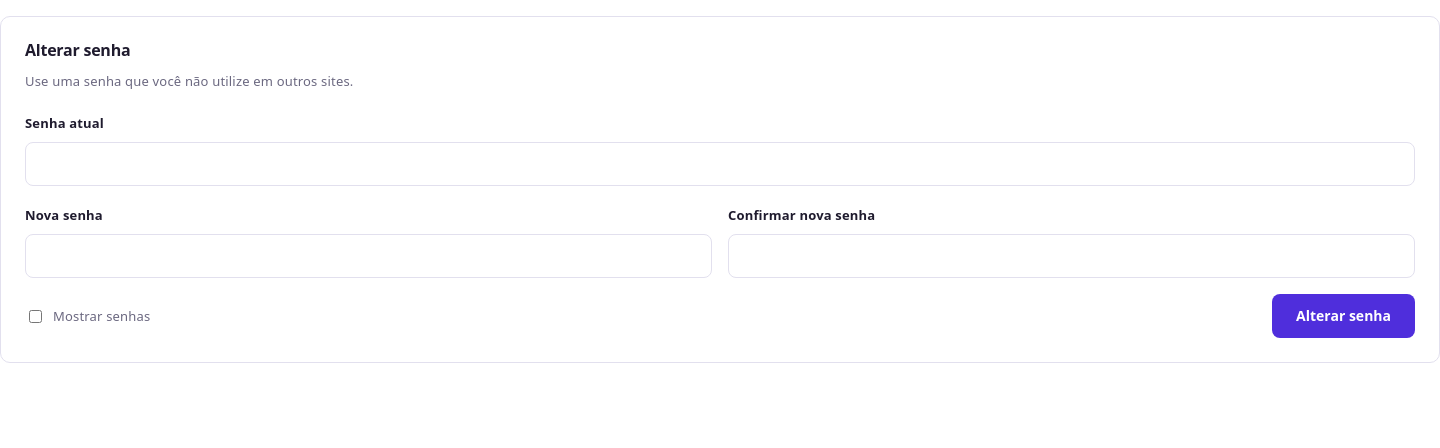
Test case: FormularioSenha › mostra o erro devolvido pela API
The width and height of the screenshot is (1440, 448).
Type "errada" into the password field labelled "Senha atual".
click(720, 164); type("errada")  # box [25, 142, 1415, 186]
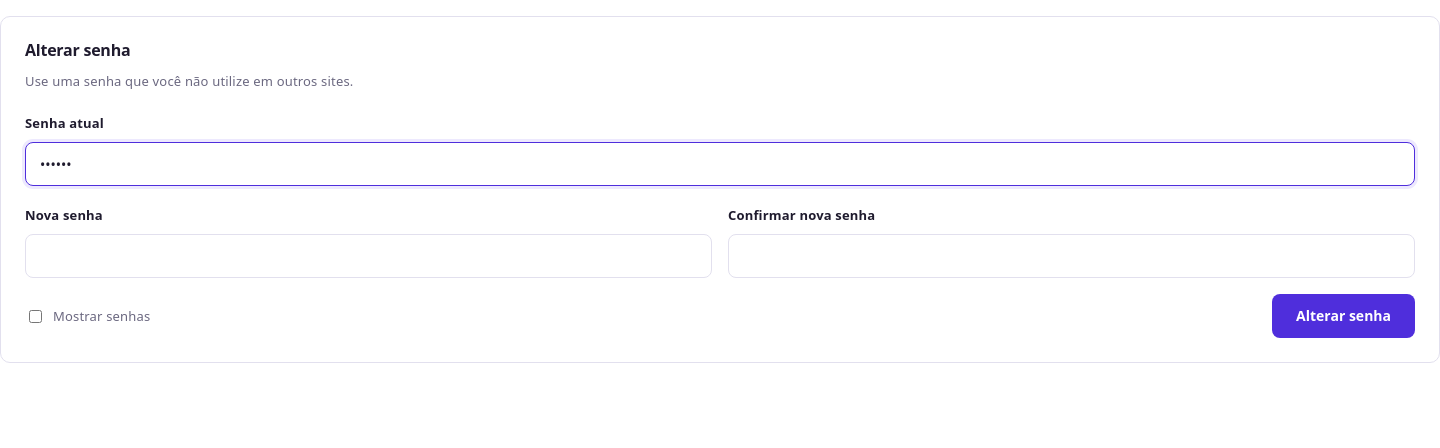
Type "nova1234" into the password field labelled "Nova senha".
click(368, 256); type("nova1234")  # box [25, 234, 712, 278]
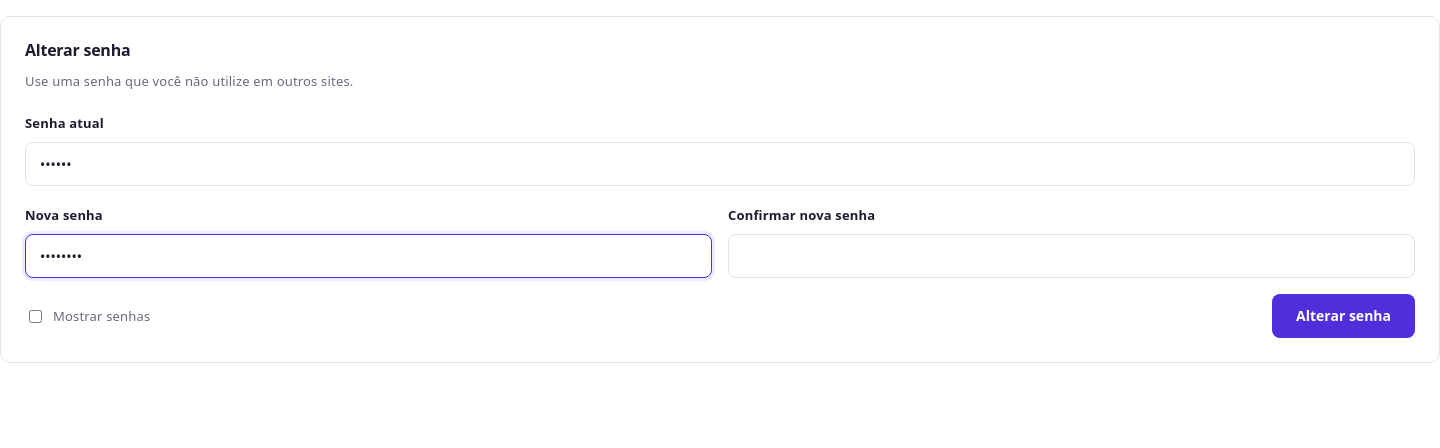
Type "nova1234" into the password field labelled "Confirmar nova senha".
click(1072, 256); type("nova1234")  # box [728, 234, 1415, 278]
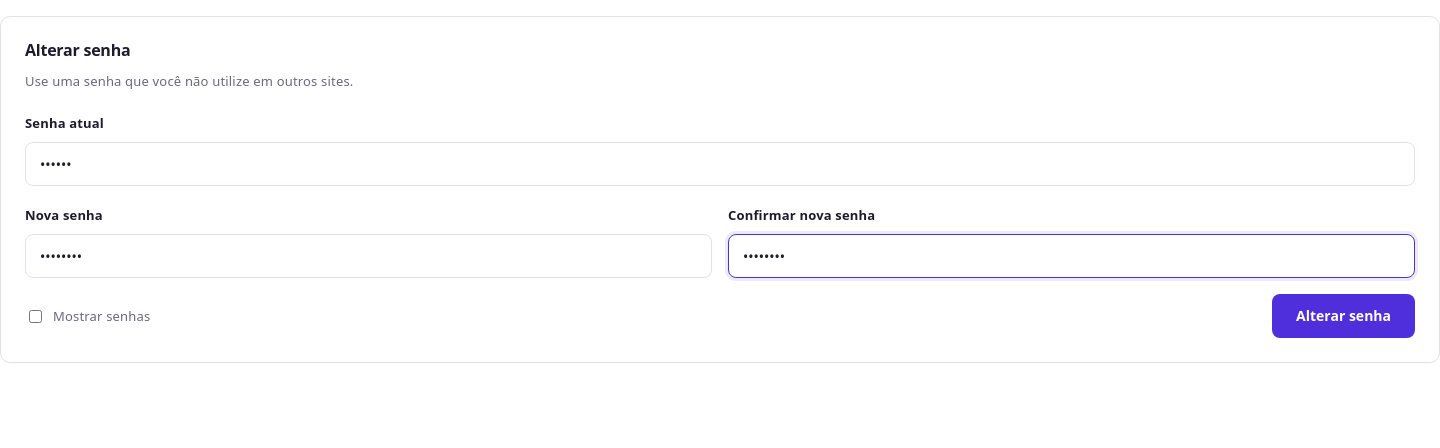
Click the button "Alterar senha".
click(1344, 316)  # box [1272, 294, 1415, 338]
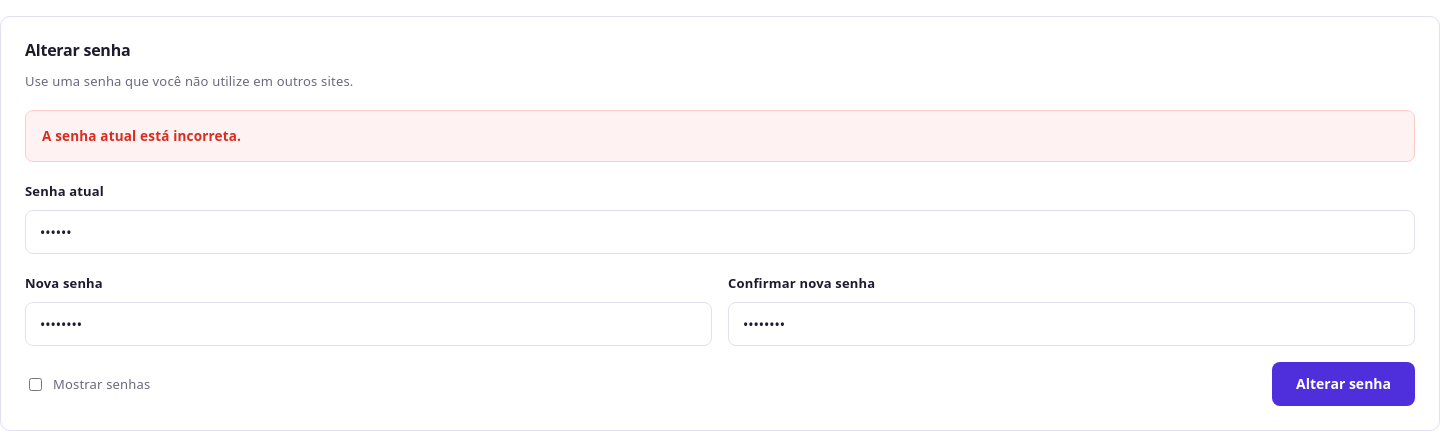
Expected: the message reads "A senha atual está incorreta.", [42, 127, 241, 145]
